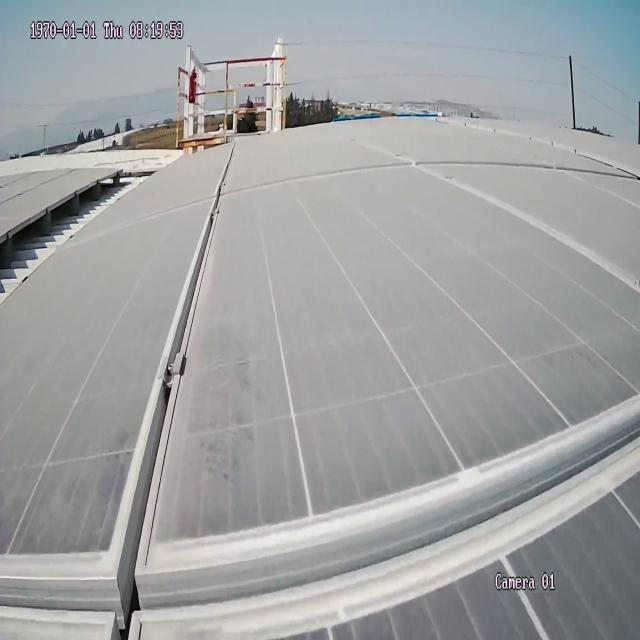interior panel: (0, 123, 640, 640)
outher panel: (1, 166, 170, 315)
